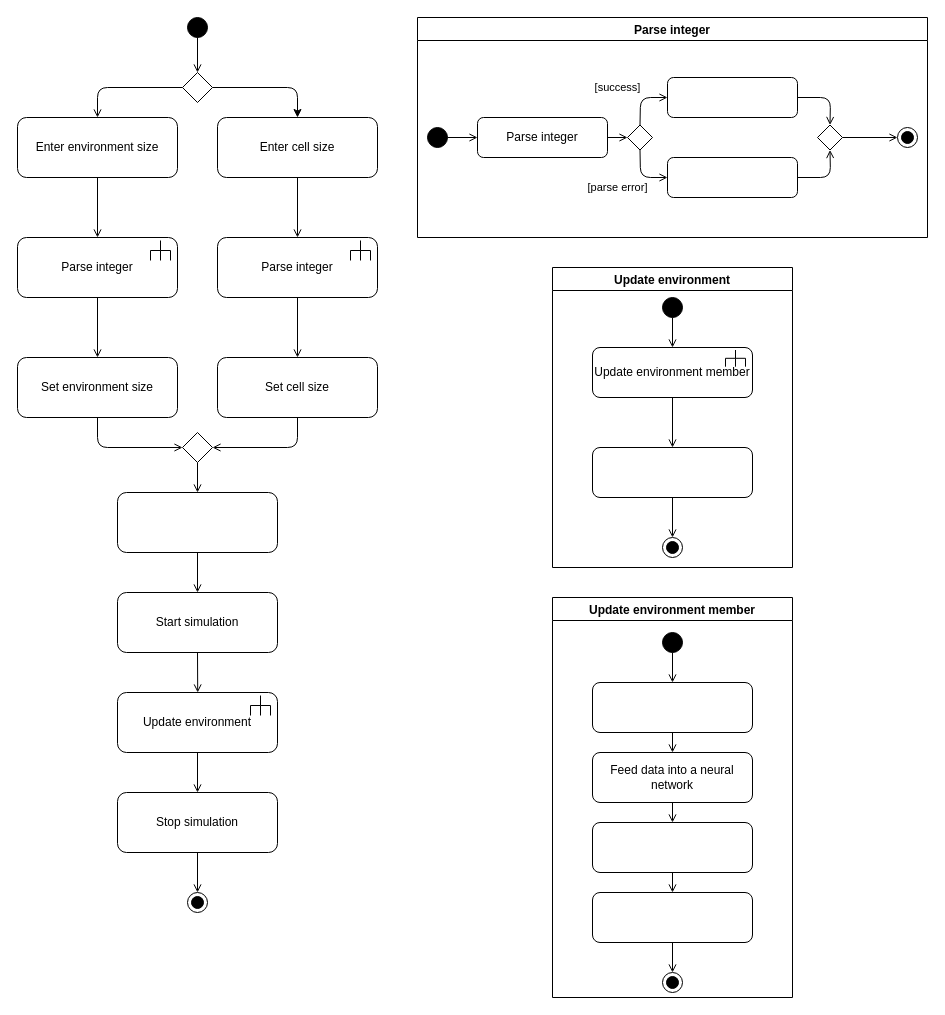
This 945x1015 diagram has some shape labels left out. Each missing label, with the centre of its shape:
"Execute predicted action" goes at [672,917].
"Place random members" goes at [197,522].
"Predict an action" goes at [672,847].
"Read sensory data" goes at [672,707].
"Return default value" goes at [732,177].
"Return parsed value" goes at [732,97].
"Update member views" goes at [672,472].
